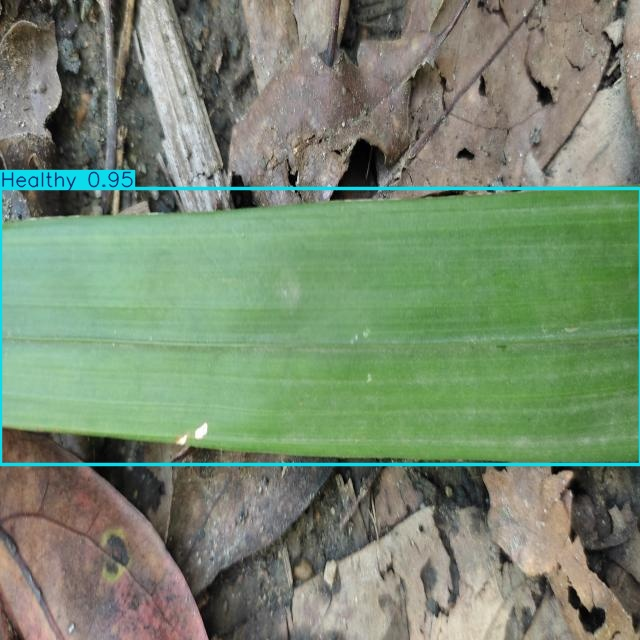Healthy: (0, 188, 640, 464)
